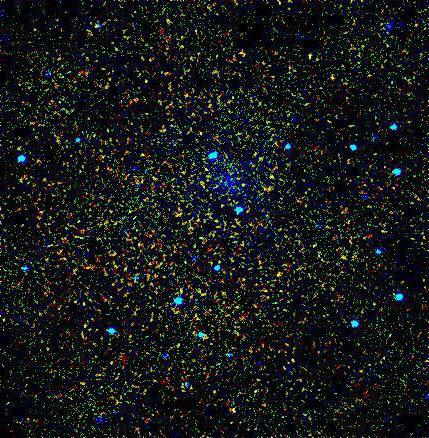star: (220, 397, 250, 427)
